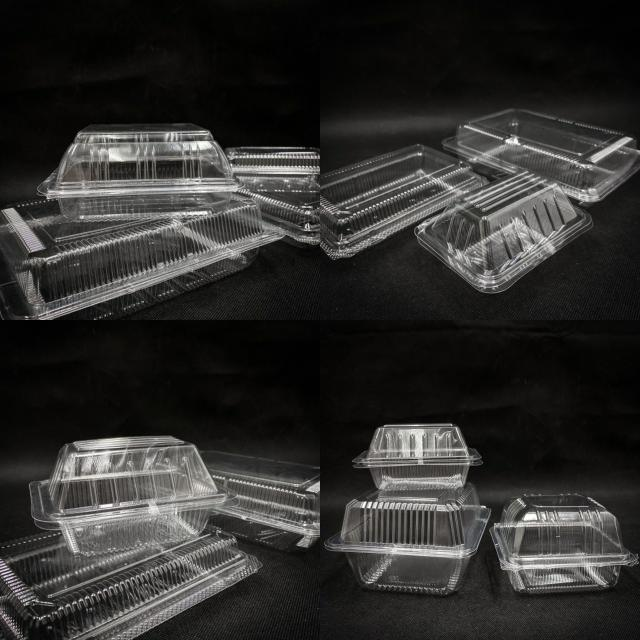Single-Use-Plastic: (0, 194, 282, 319), (0, 528, 260, 640), (30, 436, 235, 556), (415, 171, 592, 293), (318, 145, 488, 259), (442, 109, 640, 205), (39, 125, 240, 218), (325, 482, 490, 594), (490, 494, 638, 593), (201, 451, 320, 549), (225, 148, 320, 245), (352, 424, 481, 490)
